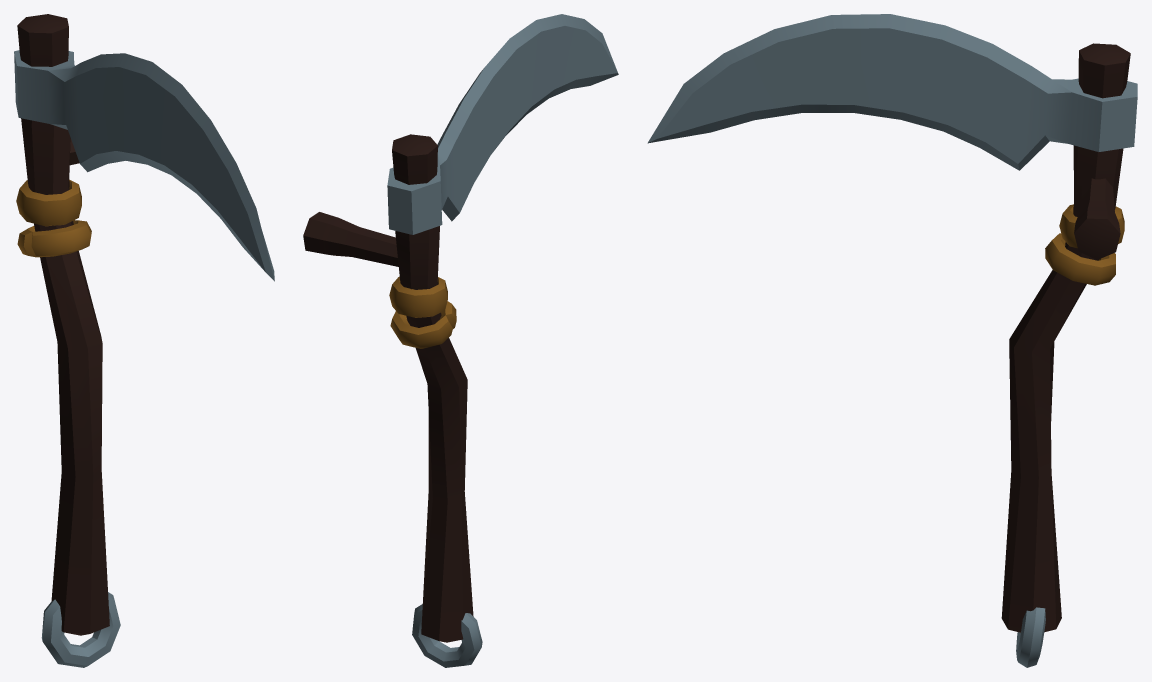
The model's file is goblin_scythe.obj.
3 renders of one model, left to right at view 1: azimuth 30°, elevation 25°; view 2: azimuth 150°, elevation 25°; view 3: azimuth 270°, elevation 25°, orthographic. The views are drawn at different scales.
Visible parts, largest first — view 1: goblin_scythe_Cylinder.084; view 2: goblin_scythe_Cylinder.084; view 3: goblin_scythe_Cylinder.084.
Part boxes in pixels (x1=…): goblin_scythe_Cylinder.084: x1=14, y1=14, x2=274, y2=667; goblin_scythe_Cylinder.084: x1=303, y1=14, x2=618, y2=667; goblin_scythe_Cylinder.084: x1=647, y1=14, x2=1137, y2=667.
Bounding box in the file's own units: 0.4173 × 1.64 × 1.12.
